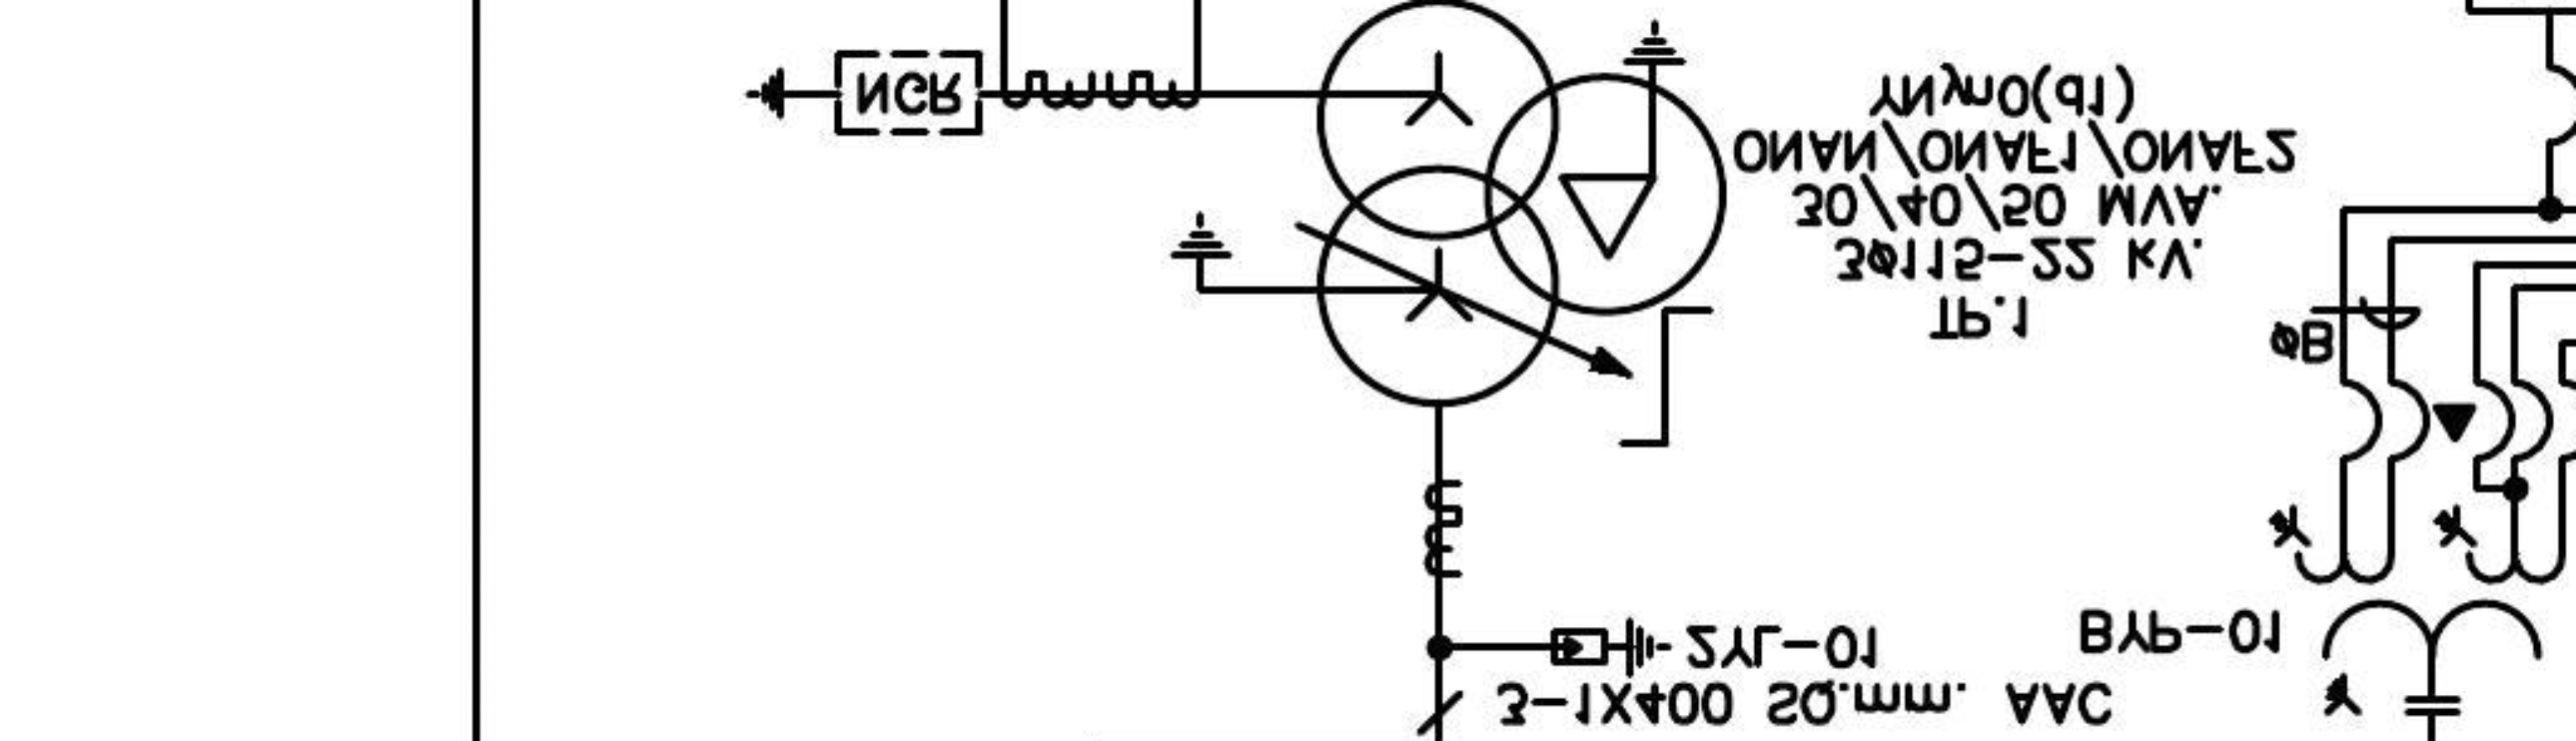115_cvt_3p: (2265, 503, 2568, 716)
115_la: (1549, 614, 1672, 680)
NGR_future: (744, 49, 984, 136)
